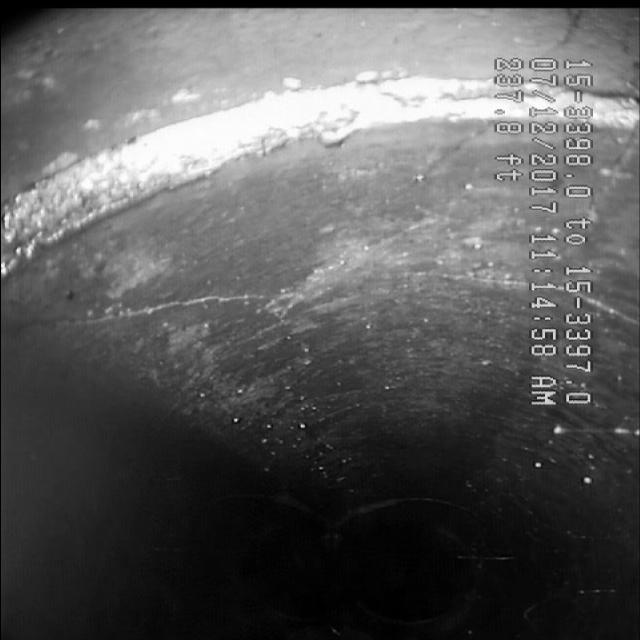Crack: (101, 238, 479, 334)
